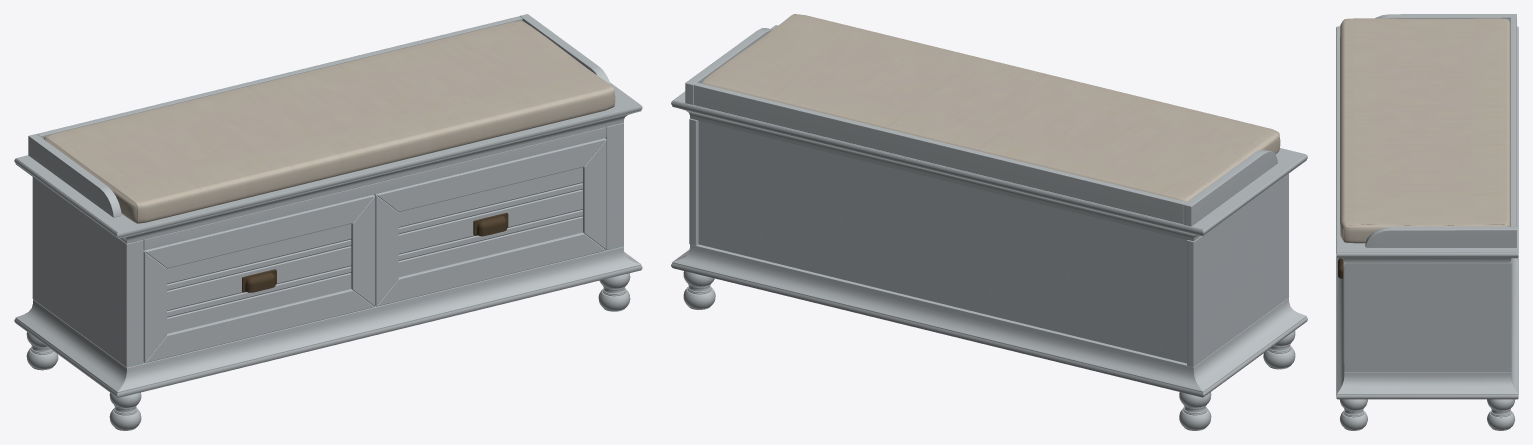
Rendered from abo-B07M6PKCQQ.glb.
The picture shows the model from 3 angles, left to right: view 1: azimuth 30°, elevation 25°; view 2: azimuth 150°, elevation 25°; view 3: azimuth 270°, elevation 25°; orthographic projection. The views are drawn at different scales.
Size of the model in its own units: 1.19 by 0.486 by 0.402.
1 material, 1 textured.
